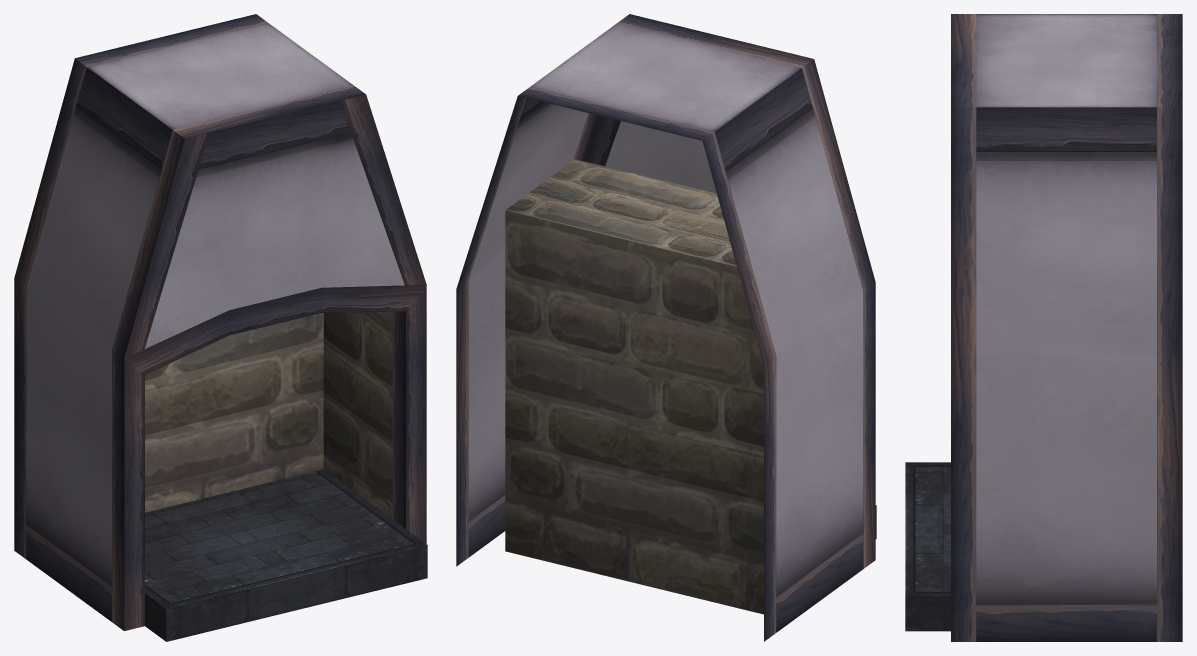
File: Fireplace_B.fbx
The picture shows the model from 3 angles, left to right: view 1: azimuth 30°, elevation 25°; view 2: azimuth 150°, elevation 25°; view 3: azimuth 270°, elevation 25°; orthographic projection. The views are drawn at different scales.
Parts seen in each view (by area): view 1: Fireplace_B; view 2: Fireplace_B; view 3: Fireplace_B.
Part boxes in pixels (bbox=[...]): Fireplace_B: bbox=[14, 14, 427, 641]; Fireplace_B: bbox=[456, 14, 876, 641]; Fireplace_B: bbox=[905, 14, 1182, 641].
Bounding box in the file's own units: 0.4152 × 0.6266 × 0.3127.
